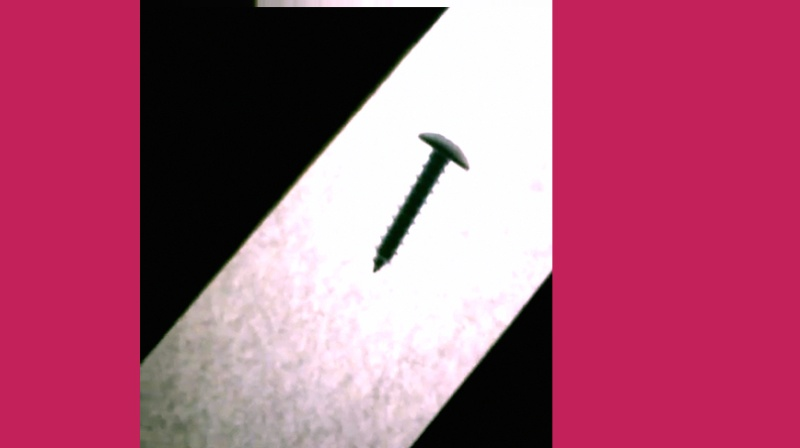S003: (370, 125, 471, 277)
